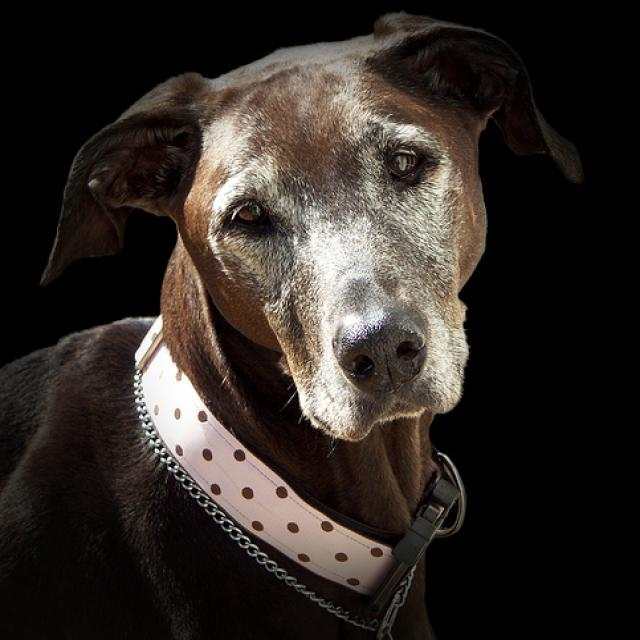dog: (1, 11, 581, 639)
